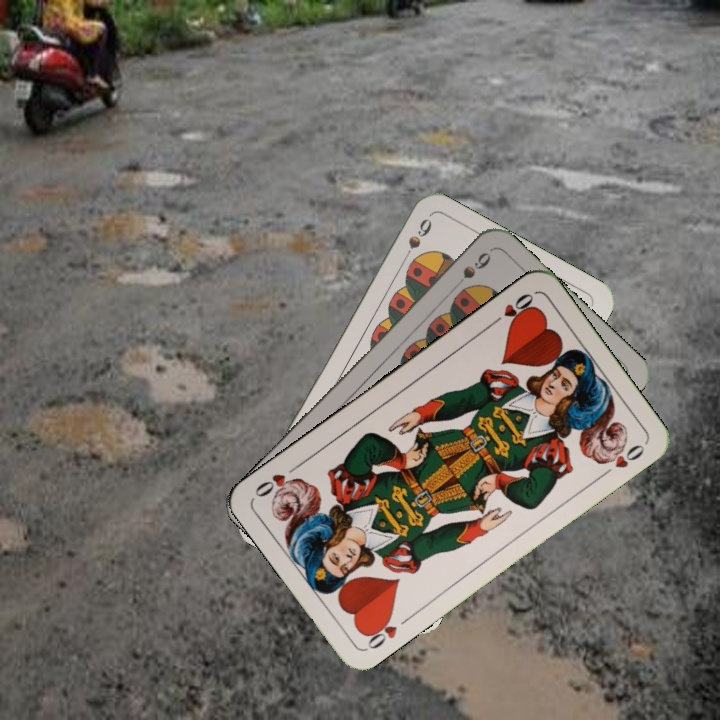HO: (360, 610, 414, 652), (486, 289, 537, 330)
S9: (448, 248, 494, 294), (397, 214, 435, 268)
